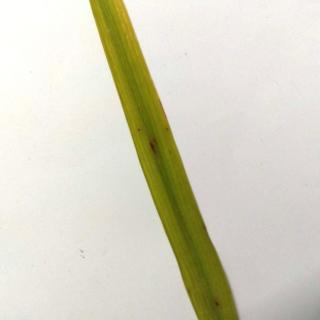bercak-Cokelat: (135, 118, 166, 164), (214, 293, 224, 310)
